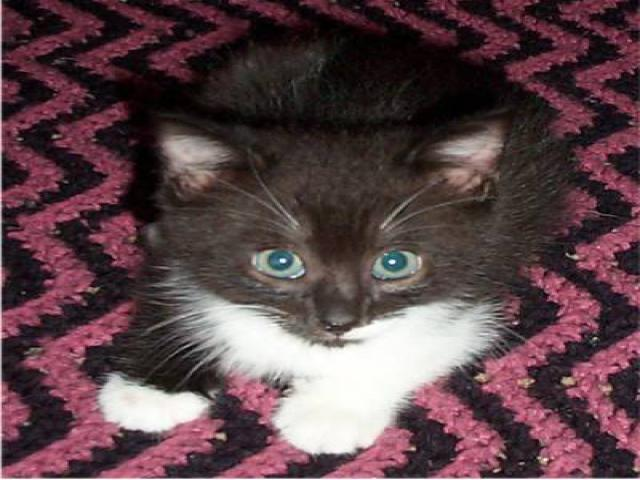cat: (100, 22, 556, 459)
